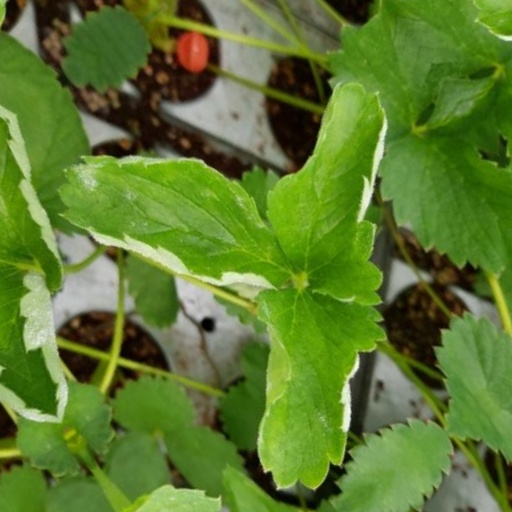Powdery Mildew Leaf: (224, 206, 390, 444), (187, 30, 376, 226), (58, 143, 235, 345), (367, 342, 477, 511), (441, 231, 511, 419), (426, 0, 511, 131)
